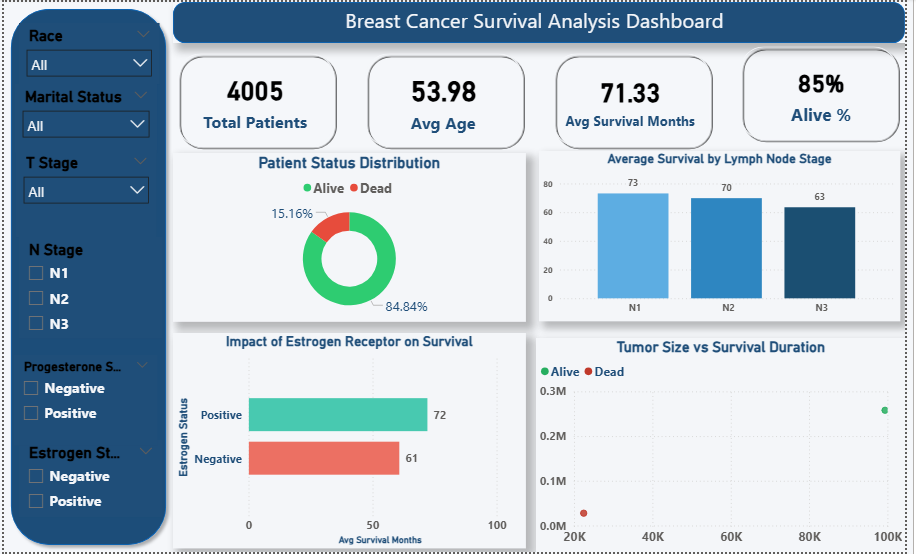

What the dashboard file says about the page in this screenshot:
{"tool":"powerbi","page":{"name":"Page 1","canvas":[1180,720],"ordinal":0},"visuals":[{"type":"shape","box":[221.2,0,958.3,53.7],"z":0},{"type":"shape","box":[0,0,221.2,719.9],"z":1},{"type":"textbox","box":[395.3,0,598.3,53.7],"z":2},{"type":"card","fields":{"Values":["Breast_Cancer.Total Patients"]},"box":[238.9,75.4,181.2,104.2],"z":3},{"type":"card","fields":{"Values":["Breast_Cancer.Avg Age"]},"box":[484.2,75.4,181.2,104.2],"z":4},{"type":"card","fields":{"Values":["Breast_Cancer.Avg Survival Months"]},"box":[729.5,75.4,181.2,104.2],"z":5},{"type":"card","fields":{"Values":["Breast_Cancer.Alive %"]},"box":[979.6,67.3,181.2,104.2],"z":6},{"type":"shape","box":[467.1,60.9,216.4,133.1],"z":7},{"type":"shape","box":[712.9,60.9,216.4,133.1],"z":8},{"type":"shape","box":[958.7,52.9,216.4,133.1],"z":9},{"type":"shape","box":[221.2,60.9,216.4,133.1],"z":10},{"type":"donutChart","title":"Patient Status Distribution","fields":{"Category":["Breast_Cancer.Status"],"Y":["CountNonNull(Breast_Cancer.Status)"]},"box":[221.2,197.2,461.7,221.2],"z":11},{"type":"clusteredBarChart","title":"Impact of Estrogen Receptor on Survival","fields":{"Category":["Breast_Cancer.Estrogen Status"],"Y":["Breast_Cancer.Avg Survival Months"]},"box":[221.2,432.9,461.7,282.2],"z":12},{"type":"clusteredColumnChart","title":"Average Survival by Lymph Node Stage","fields":{"Category":["Breast_Cancer.N Stage"],"Y":["Breast_Cancer.Avg Survival Months"]},"box":[700.6,195.6,473,222.9],"z":13},{"type":"scatterChart","title":"Tumor Size vs Survival Duration","fields":{"X":["Sum(Breast_Cancer.Tumor Size)"],"Y":["Sum(Breast_Cancer.Survival Months)"],"Series":["Breast_Cancer.Status"]},"box":[695.8,439.3,484.2,280.6],"z":15},{"type":"slicer","fields":{"Values":["Breast_Cancer.Race"]},"box":[19.2,27.3,184.4,80.2],"z":16},{"type":"slicer","fields":{"Values":["Breast_Cancer.Estrogen Status"]},"box":[19.2,574,187.6,101],"z":17},{"type":"slicer","fields":{"Values":["Breast_Cancer.Marital Status"]},"box":[14.4,107.4,186,89.8],"z":18},{"type":"slicer","fields":{"Values":["Breast_Cancer.T Stage "]},"box":[16,194,184.4,113.8],"z":19},{"type":"slicer","fields":{"Values":["Breast_Cancer.N Stage"]},"box":[19.2,307.8,187.6,133.1],"z":20},{"type":"slicer","fields":{"Values":["Breast_Cancer.Progesterone Status"]},"box":[12.8,461.7,187.6,118.6],"z":21}]}

Visuals, with their boxes in screenshot pixels (x1, y1, x2, y2), scaled from the page's 1180x720 canvas onto the 916x554 screenshot:
shape: 172:0:915:41
shape: 0:0:172:553
textbox: 307:0:771:41
card - Breast_Cancer.Total Patients: 185:58:326:138
card - Breast_Cancer.Avg Age: 376:58:517:138
card - Breast_Cancer.Avg Survival Months: 566:58:707:138
card - Breast_Cancer.Alive %: 760:52:901:132
shape: 363:47:531:149
shape: 553:47:721:149
shape: 744:41:912:143
shape: 172:47:340:149
"Patient Status Distribution" donutChart: 172:152:530:322
"Impact of Estrogen Receptor on Survival" clusteredBarChart: 172:333:530:550
"Average Survival by Lymph Node Stage" clusteredColumnChart: 544:151:911:322
"Tumor Size vs Survival Duration" scatterChart: 540:338:915:553
slicer - Breast_Cancer.Race: 15:21:158:83
slicer - Breast_Cancer.Estrogen Status: 15:442:161:519
slicer - Breast_Cancer.Marital Status: 11:83:156:152
slicer - Breast_Cancer.T Stage : 12:149:156:237
slicer - Breast_Cancer.N Stage: 15:237:161:339
slicer - Breast_Cancer.Progesterone Status: 10:355:156:447
